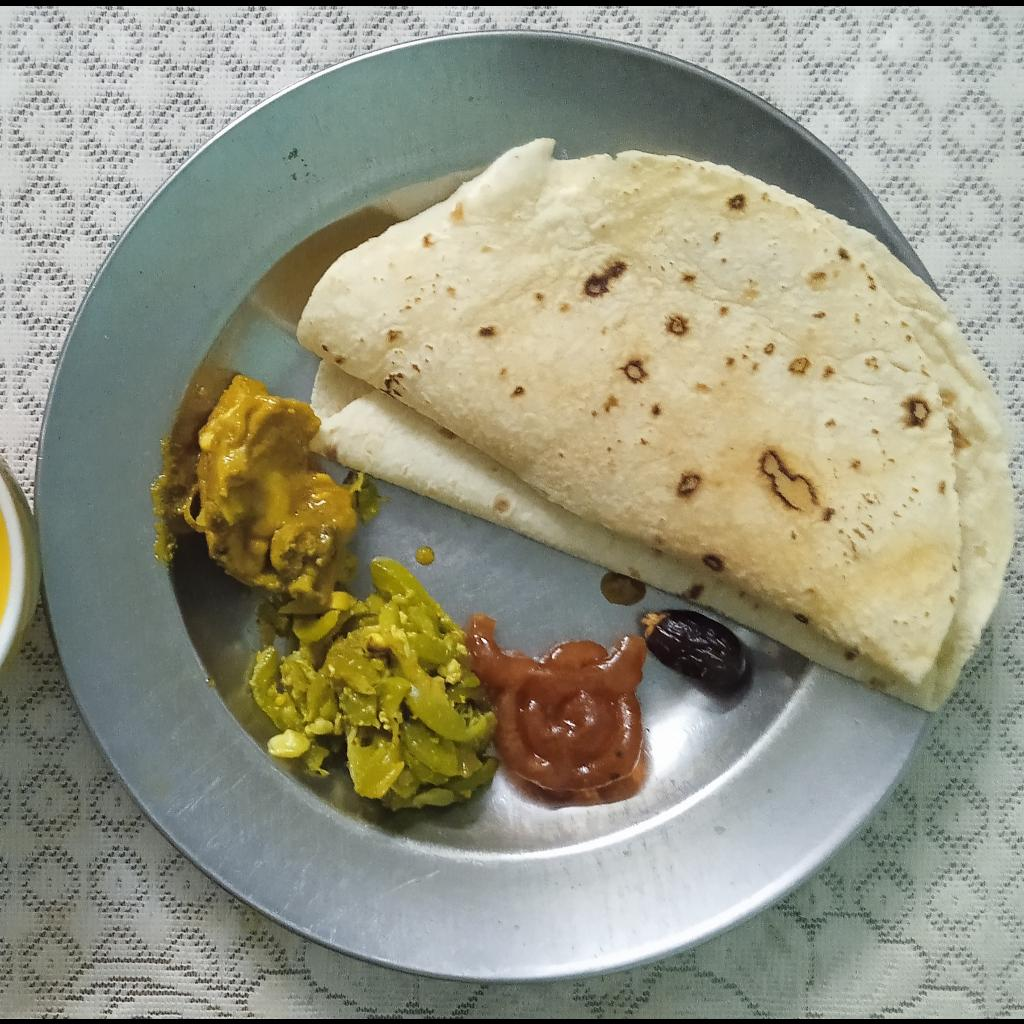chicken: (183, 372, 360, 603)
dates: (643, 607, 756, 699)
dundol: (252, 555, 498, 807)
jilapi: (463, 612, 647, 791)
ruti: (297, 135, 1015, 714)
